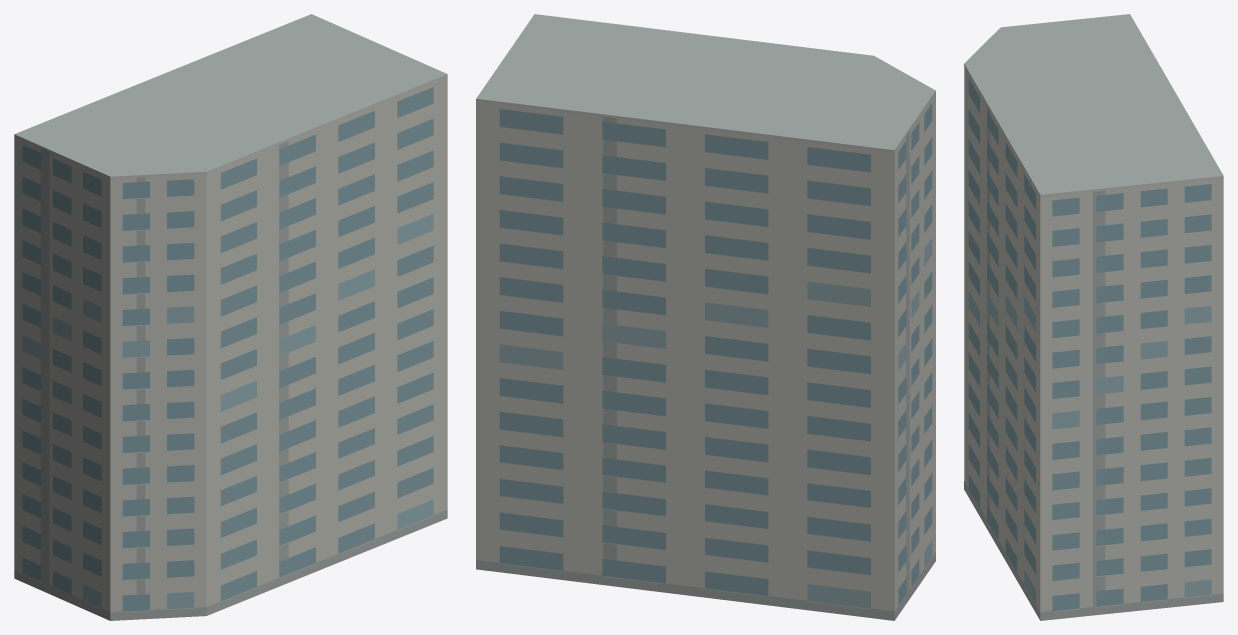
The model's file is residential-2d421b00-94f8-4036-8531-3306ed3e5fb8.glb.
3 renders of one model, left to right at view 1: azimuth 30°, elevation 25°; view 2: azimuth 150°, elevation 25°; view 3: azimuth 270°, elevation 25°, orthographic. The views are drawn at different scales.
Visible parts, largest first — view 1: residential-2d421b00-94f8-4036-8531-3306ed3e5fb8.tmp; view 2: residential-2d421b00-94f8-4036-8531-3306ed3e5fb8.tmp; view 3: residential-2d421b00-94f8-4036-8531-3306ed3e5fb8.tmp.
Part boxes in pixels (x1,y1,x2,y2): residential-2d421b00-94f8-4036-8531-3306ed3e5fb8.tmp: [14, 14, 447, 620]; residential-2d421b00-94f8-4036-8531-3306ed3e5fb8.tmp: [476, 14, 935, 620]; residential-2d421b00-94f8-4036-8531-3306ed3e5fb8.tmp: [964, 14, 1223, 620].
Bounding box in the file's own units: 40.08 × 44 × 24.31.
